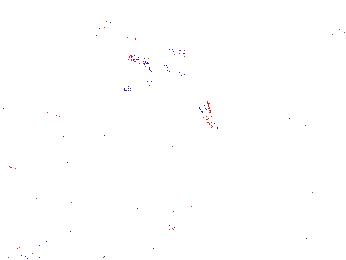glassfish: (167, 63, 226, 139)
red belly glassfish: (284, 115, 296, 136), (100, 23, 119, 34)
redtail glassfish: (125, 52, 176, 71)
siberian prawn: (35, 213, 112, 260)
